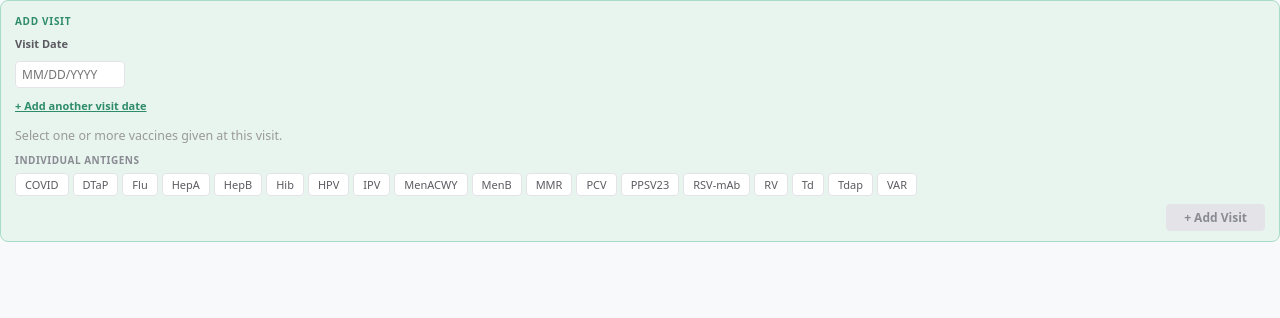
Test: VisitEntry autofocus — adding a new row › clicking + once adds a second row and the new row input renders with autoFocus prop
This screenshot has width=1280, height=318.
Click the button "+ Add another visit date": (81, 105) [15,98,146,113]
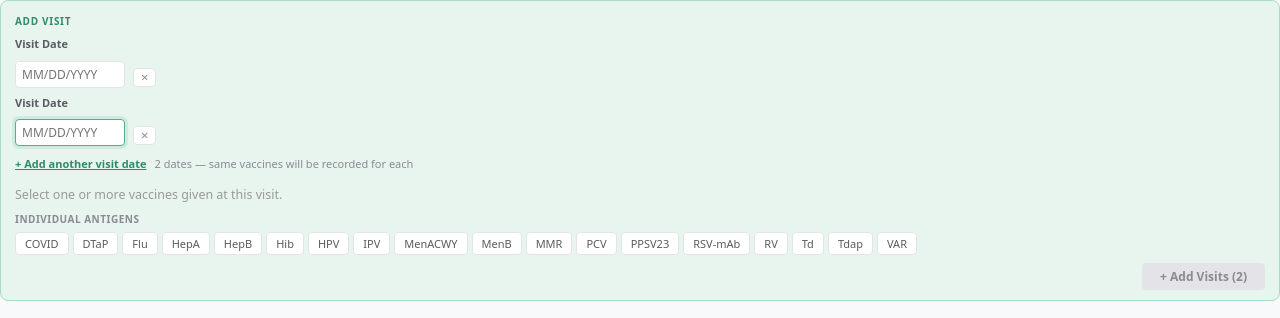
Result: the 2nd field with placeholder "MM/DD/YYYY" is shown at [15,119,125,146]
